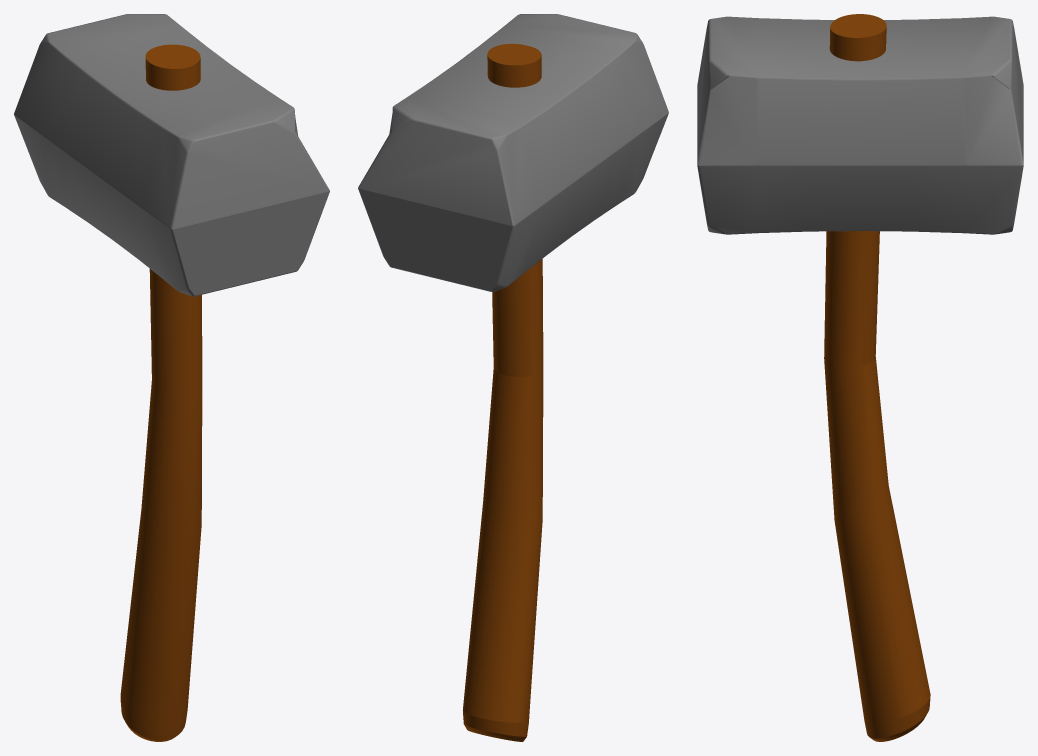
The picture shows the model from 3 angles, left to right: view 1: azimuth 30°, elevation 25°; view 2: azimuth 150°, elevation 25°; view 3: azimuth 270°, elevation 25°; orthographic projection. The views are drawn at different scales.
Parts seen in each view (by area): view 1: Cylinder.004; view 2: Cylinder.004; view 3: Cylinder.004.
Part boxes in pixels (bbox=[...]): Cylinder.004: bbox=[14, 14, 329, 741]; Cylinder.004: bbox=[358, 14, 668, 741]; Cylinder.004: bbox=[697, 14, 1023, 741].
Bounding box in the file's own units: 153 × 635 × 264.
